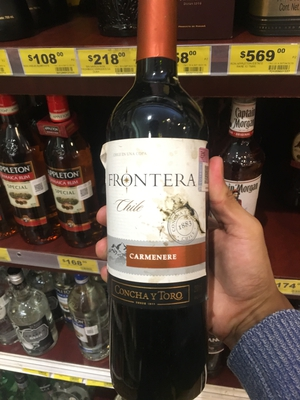frontera carmenere: (94, 5, 218, 384)
